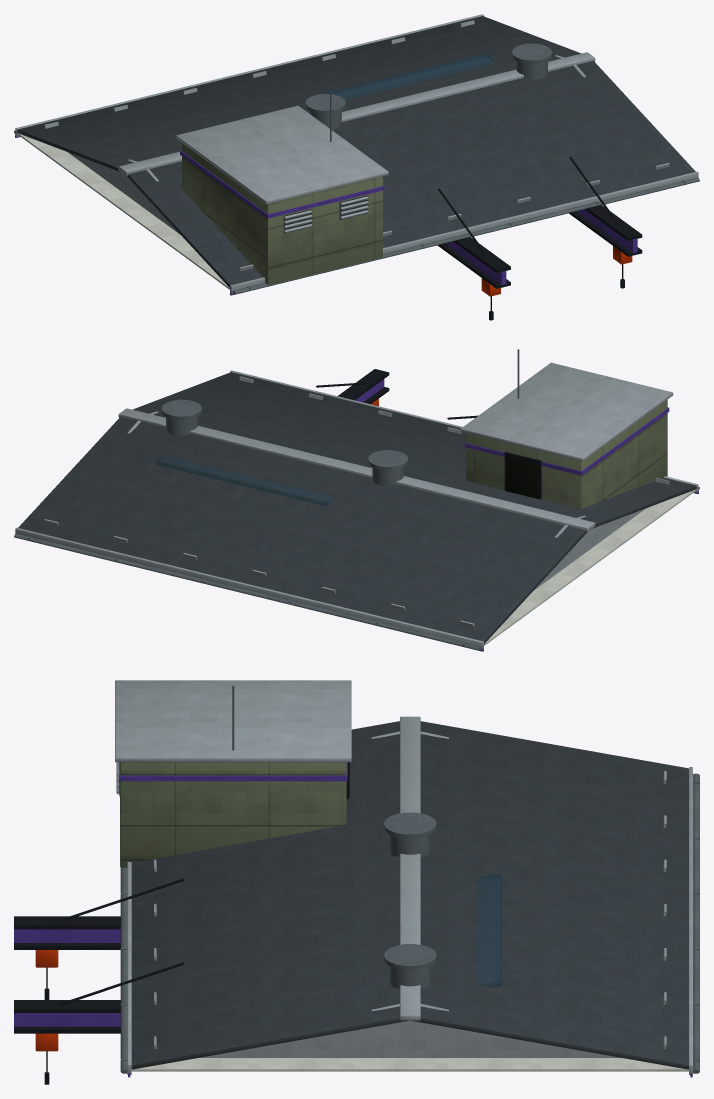
The model's file is fac_maint_roof.glb.
3 views of the same model, one above another, from view 1: azimuth 30°, elevation 25°; view 2: azimuth 150°, elevation 25°; view 3: azimuth 270°, elevation 25° (orthographic). The views are drawn at different scales.
Parts seen in each view (by area): view 1: FAC_MAINT_ROOF; view 2: FAC_MAINT_ROOF; view 3: FAC_MAINT_ROOF.
Part boxes in pixels (x1=…): FAC_MAINT_ROOF: x1=14, y1=14, x2=699, y2=320; FAC_MAINT_ROOF: x1=14, y1=349, x2=699, y2=651; FAC_MAINT_ROOF: x1=14, y1=680, x2=699, y2=1084.
Size of the model in its own units: 15 by 6.01 by 14.54.
13 materials, 12 textured.
